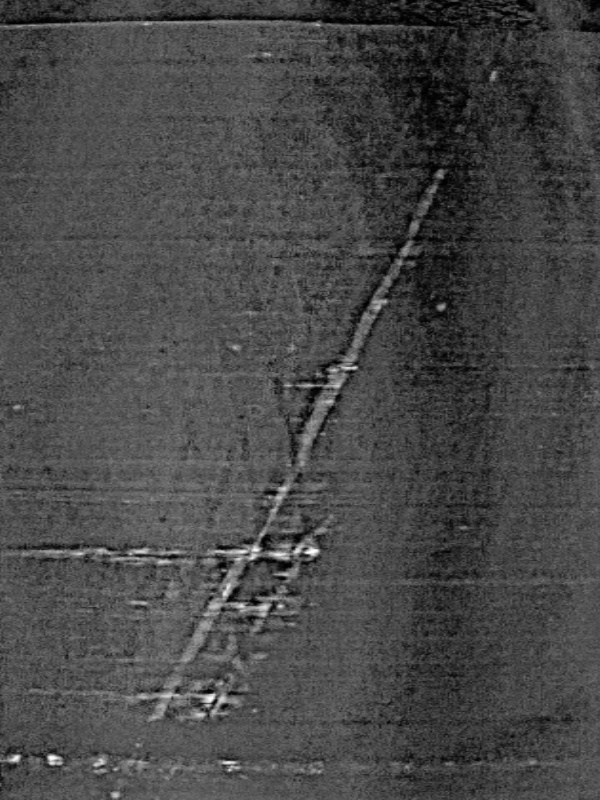splice_vulcanized: (82, 28, 537, 798)
